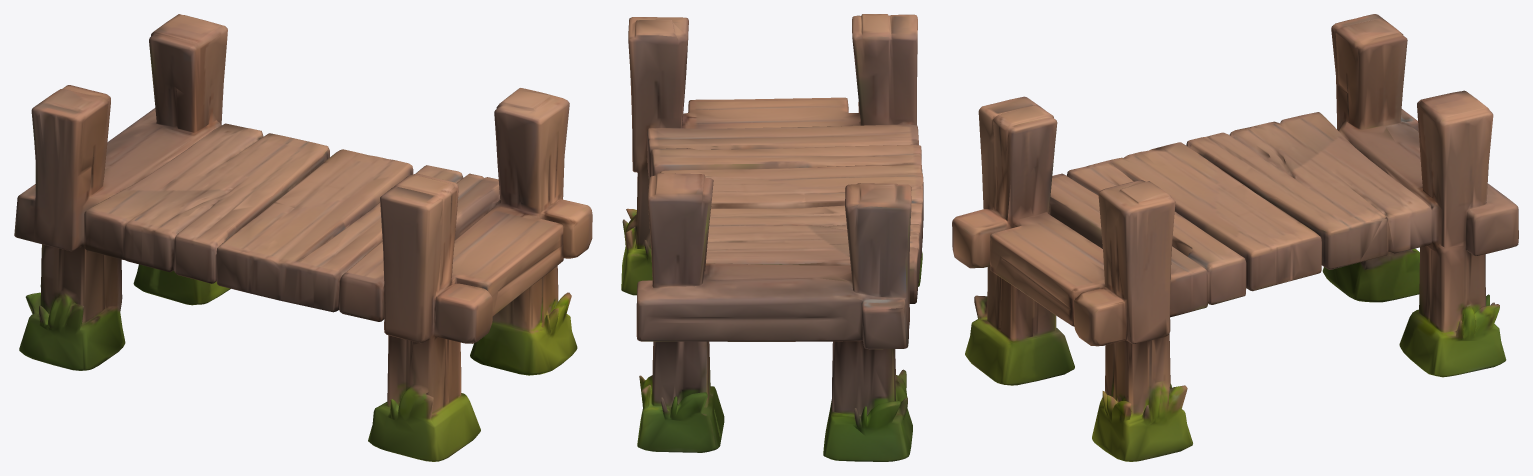
The model's file is fence.fbx.
3 renders of one model, left to right at view 1: azimuth 30°, elevation 25°; view 2: azimuth 150°, elevation 25°; view 3: azimuth 270°, elevation 25°, orthographic.
Visible parts, largest first — view 1: fence; view 2: fence; view 3: fence.
Boxes of the visible parts, x1,y1,x2,y2 form: fence: (14, 14, 592, 461); fence: (621, 14, 923, 461); fence: (952, 14, 1518, 461).
Bounding box in the file's own units: 35.82 × 20.73 × 41.82.
Materials: 1 (1 with a texture image).
